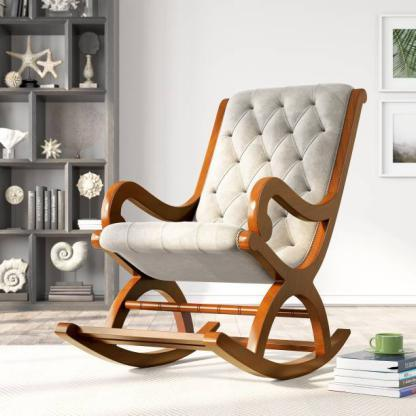chair: (52, 57, 377, 383)
